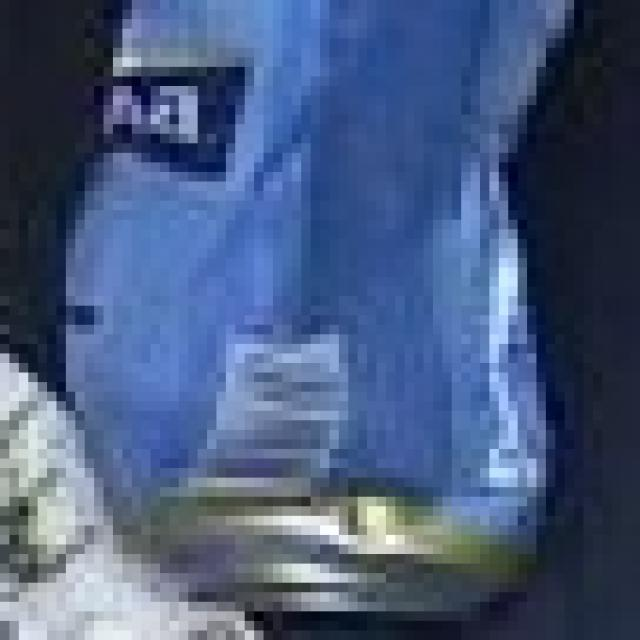can: (19, 0, 632, 636)
